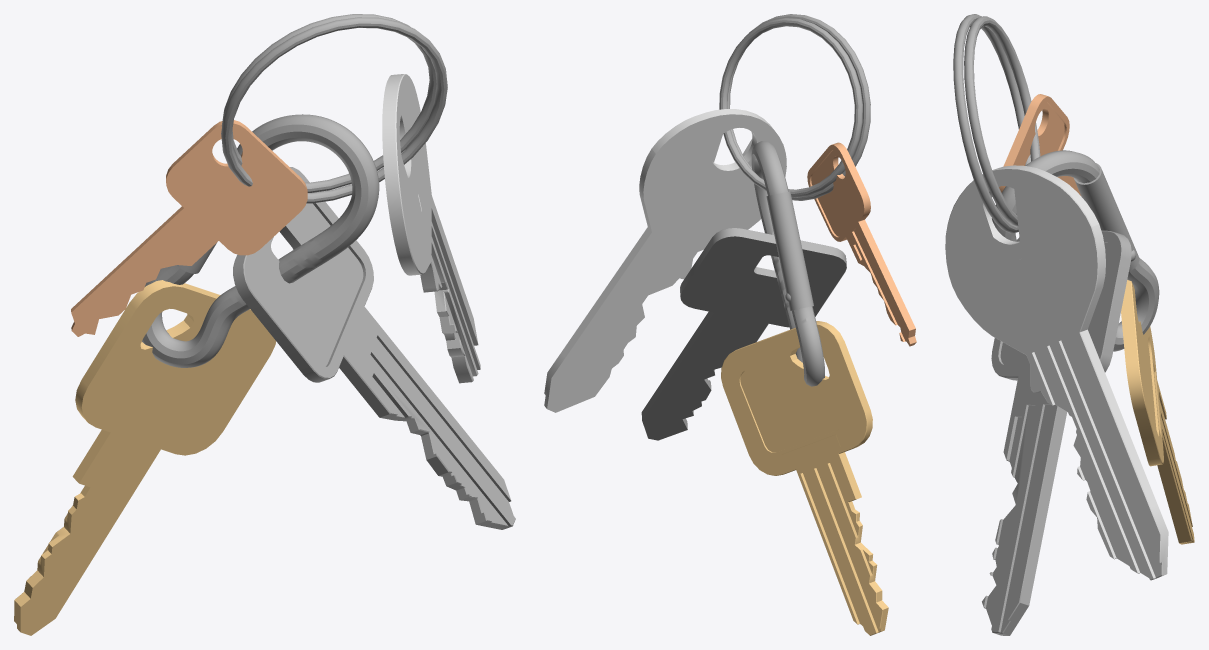
The model's file is keys.fbx.
The picture shows the model from 3 angles, left to right: view 1: azimuth 30°, elevation 25°; view 2: azimuth 150°, elevation 25°; view 3: azimuth 270°, elevation 25°; orthographic projection. The views are drawn at different scales.
Visible parts, largest first — view 1: Plane.011, Cube.610, Cube.611, NurbsPath.253, Cube.609, Circle; view 2: Plane.011, Cube.609, Cube.610, NurbsPath.253, Cube.611, Circle; view 3: Cube.609, Cube.610, Circle, Plane.011, NurbsPath.253, Cube.611.
Part boxes in pixels (<box>): Plane.011: <box>14,280,275,635</box>; Cube.610: <box>233,167,515,529</box>; Cube.611: <box>71,120,307,336</box>; NurbsPath.253: <box>142,114,379,367</box>; Cube.609: <box>382,74,480,383</box>; Circle: <box>221,14,447,203</box>; Plane.011: <box>721,321,888,635</box>; Cube.609: <box>544,109,786,412</box>; Cube.610: <box>641,227,846,440</box>; NurbsPath.253: <box>751,141,824,386</box>; Cube.611: <box>807,142,916,346</box>; Circle: <box>719,14,870,200</box>; Cube.609: <box>945,165,1168,580</box>; Cube.610: <box>982,230,1131,635</box>; Circle: <box>953,14,1040,233</box>; Plane.011: <box>1121,280,1194,544</box>; NurbsPath.253: <box>991,150,1159,351</box>; Cube.611: <box>999,94,1080,195</box>.
Size of the model in its own units: 8.27 by 11.51 by 4.26.
